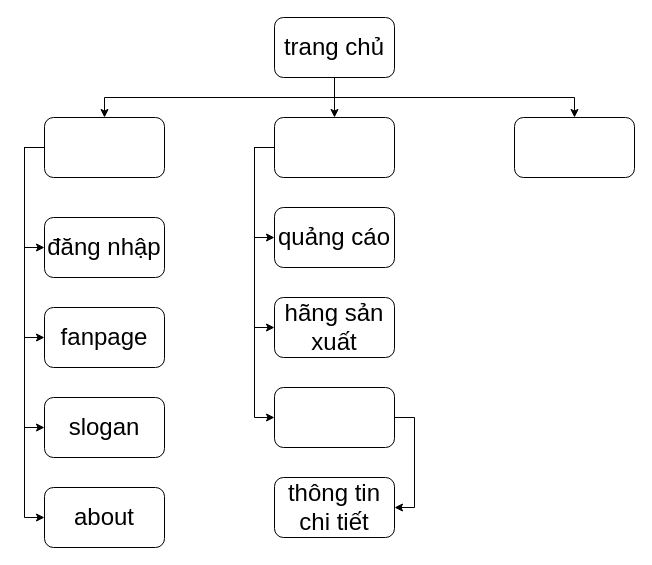
Image size: 652x565. Some labels were removed from this diagram. The centre of each missing label's shape, as x and y in pixels:
"liên hệ" goes at [574,147].
"nội dung" goes at [334,147].
"sơ lược sản phẩm" goes at [334,417].
"thanh điều hướng" goes at [104,147].
